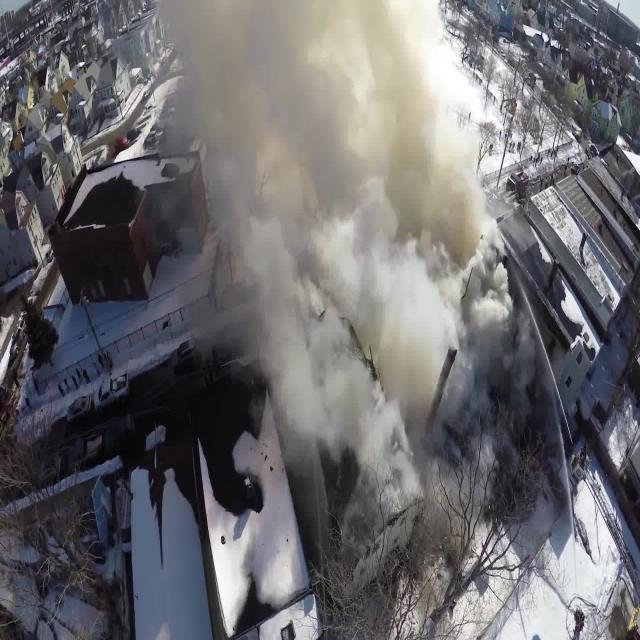Smoke: (155, 0, 512, 497)
